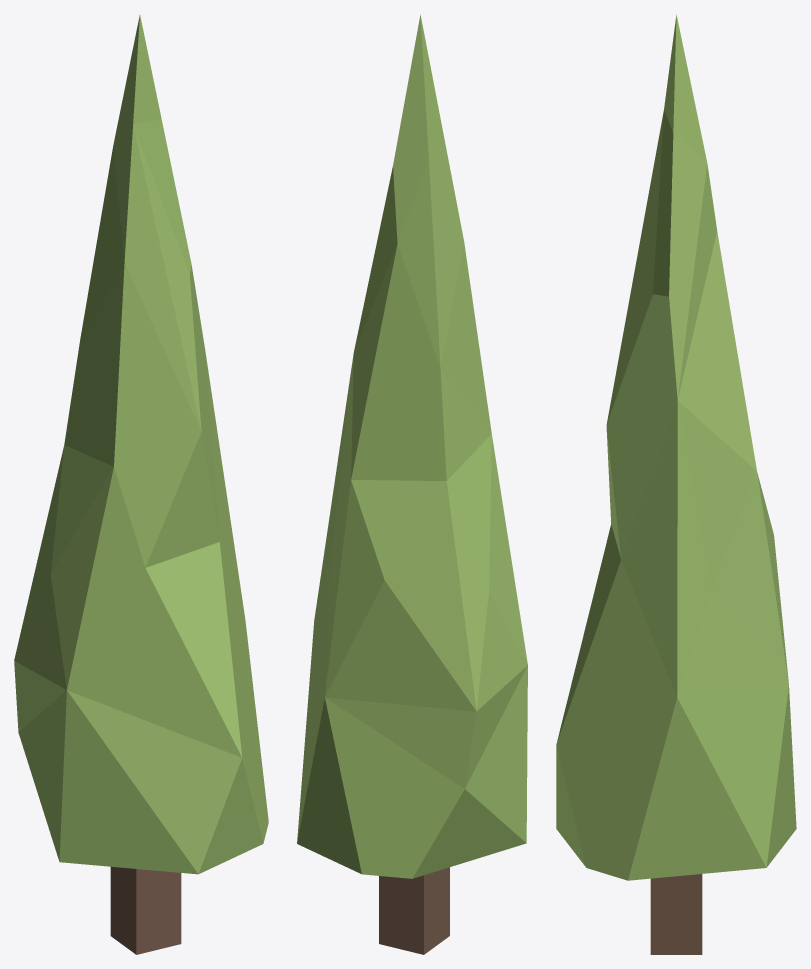
Rendered from elka.fbx.
3 renders of one model, left to right at view 1: azimuth 30°, elevation 25°; view 2: azimuth 150°, elevation 25°; view 3: azimuth 270°, elevation 25°, orthographic.
Visible parts, largest first — view 1: elka; view 2: elka; view 3: elka.
Part boxes in pixels (box(x1,y1,x2,y2)): elka: box(14, 15, 268, 954); elka: box(297, 14, 527, 954); elka: box(556, 14, 796, 954).
Size of the model in its own units: 1.28 by 5.68 by 1.33.
